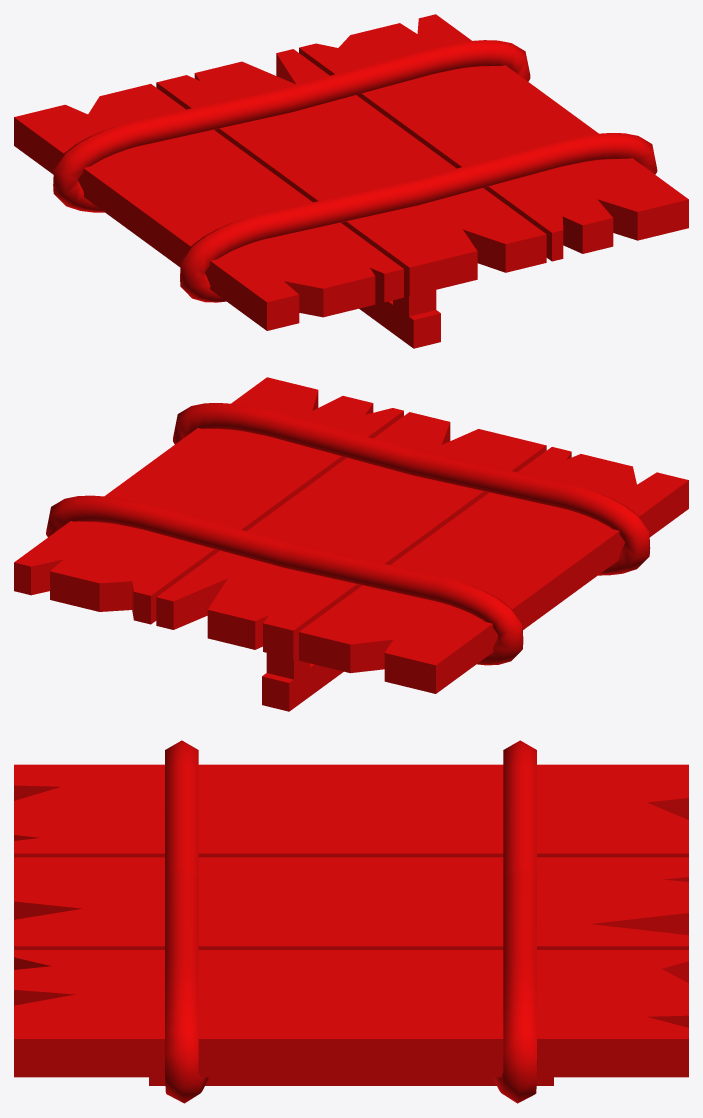
Rendered from weapon_wooden_shield_mesh.fbx.
3 renders of one model, top to bottom at view 1: azimuth 30°, elevation 25°; view 2: azimuth 150°, elevation 25°; view 3: azimuth 270°, elevation 25°, orthographic. The views are drawn at different scales.
Visible parts, largest first — view 1: weapon_wooden_shield_mesh; view 2: weapon_wooden_shield_mesh; view 3: weapon_wooden_shield_mesh.
Part boxes in pixels (x1,y1,x2,y2): weapon_wooden_shield_mesh: (14, 14, 688, 348); weapon_wooden_shield_mesh: (14, 377, 688, 711); weapon_wooden_shield_mesh: (14, 740, 688, 1103).
Bounding box in the file's own units: 86.98 × 27.96 × 80.
